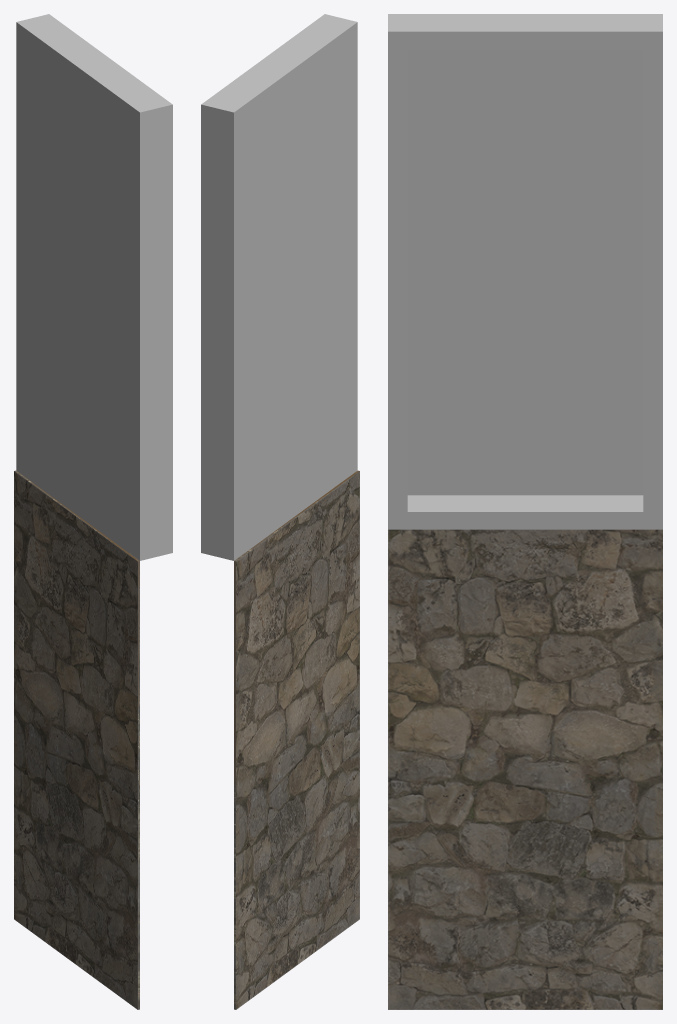
File: HouseWall_1x2_v2.fbx
3 renders of one model, left to right at view 1: azimuth 30°, elevation 25°; view 2: azimuth 150°, elevation 25°; view 3: azimuth 270°, elevation 25°, orthographic. The views are drawn at different scales.
Visible parts, largest first — view 1: Plane.101; view 2: Plane.101; view 3: Plane.101.
Boxes of the visible parts, x1,y1,x2,y2 form: Plane.101: (14,14,172,1009); Plane.101: (201,14,359,1009); Plane.101: (388,14,662,1009).
Size of the model in its own units: 16.34 by 400 by 100.
